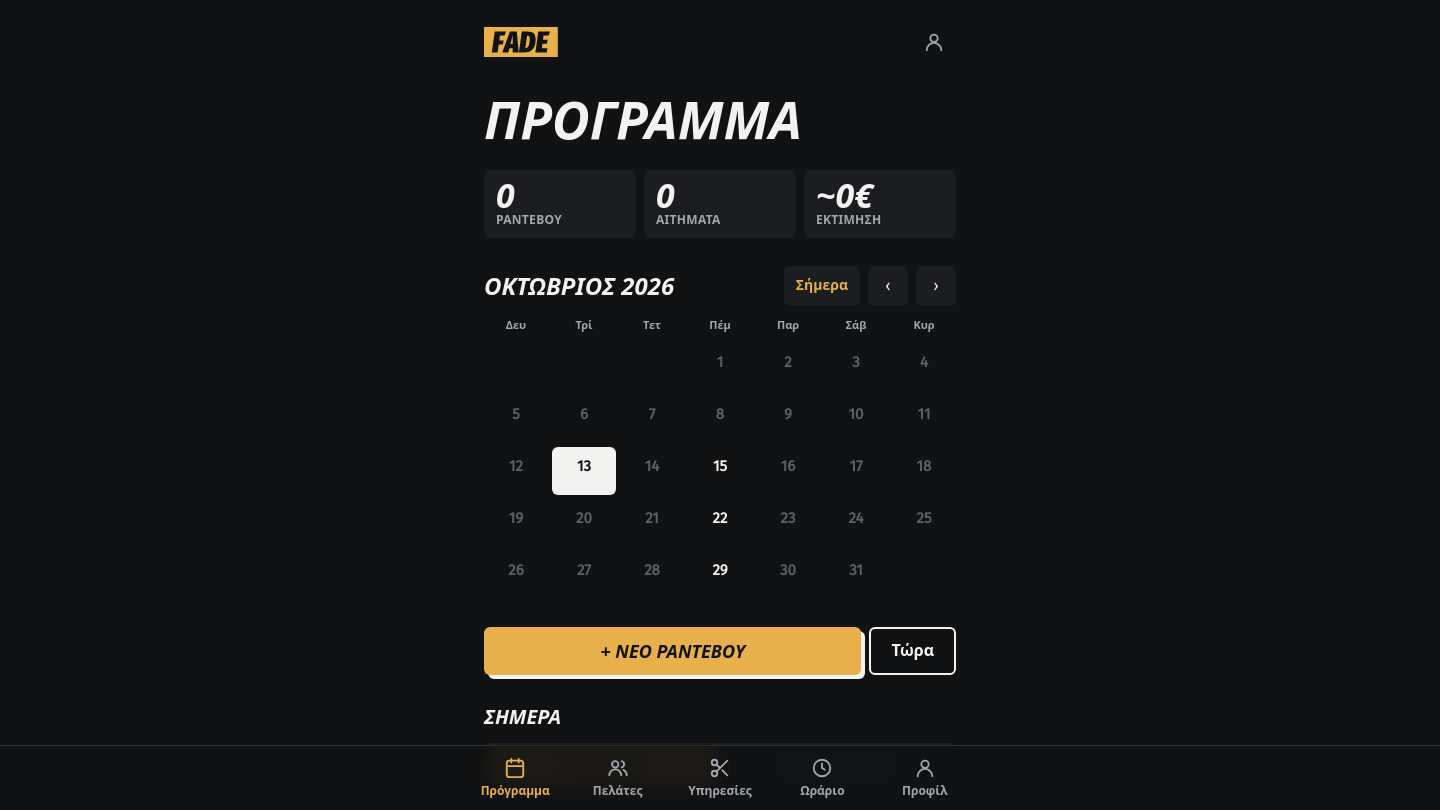
Test: opens the manual booking form at the free time that was tapped
Thursday 15 October, all free.
Click the button named "Πέμπτη 15 Οκτωβρίου" at (720, 471), box [688, 447, 752, 495]
(page scrolled)
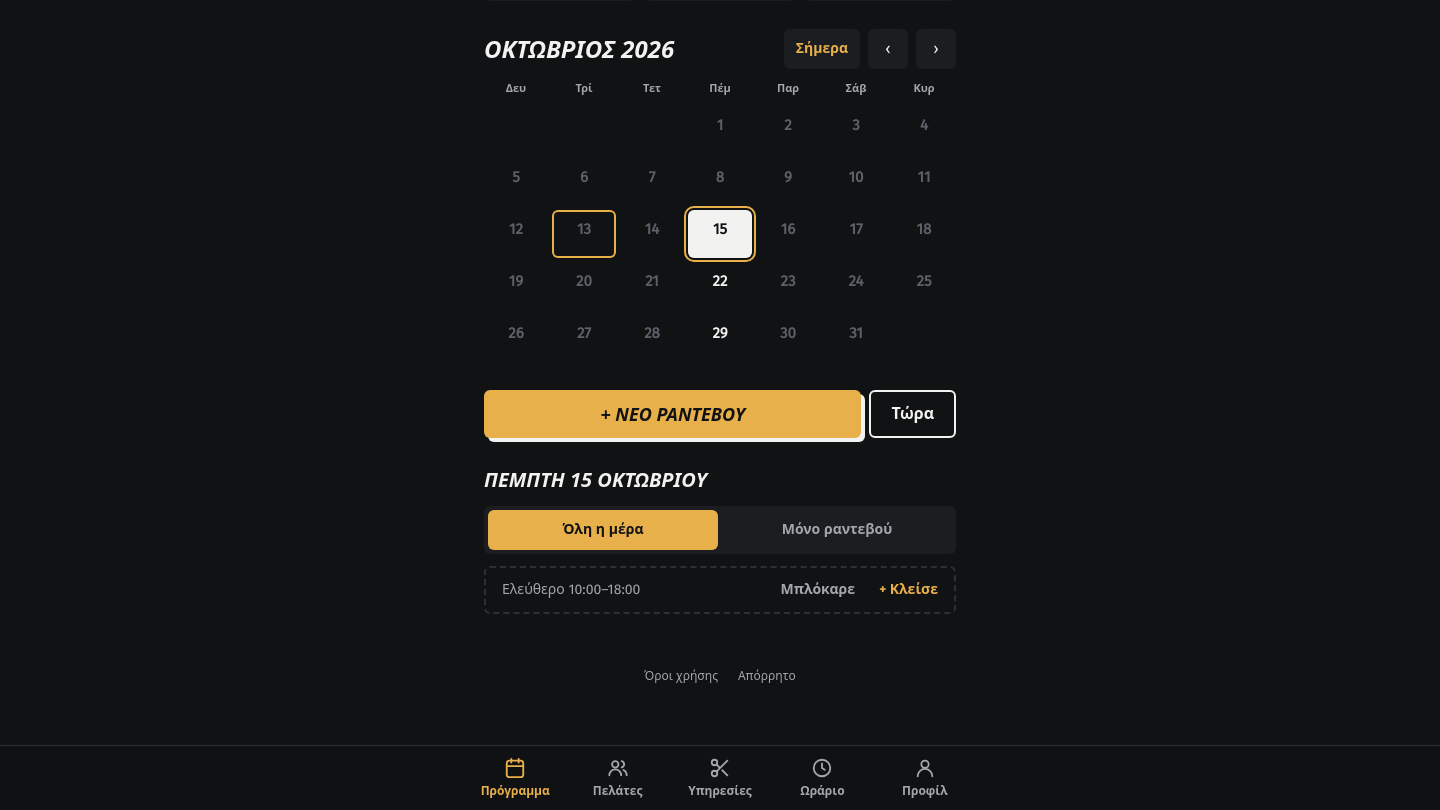
Click the button "+ Κλείσε" at (908, 590), box [871, 568, 946, 612]
(page scrolled)
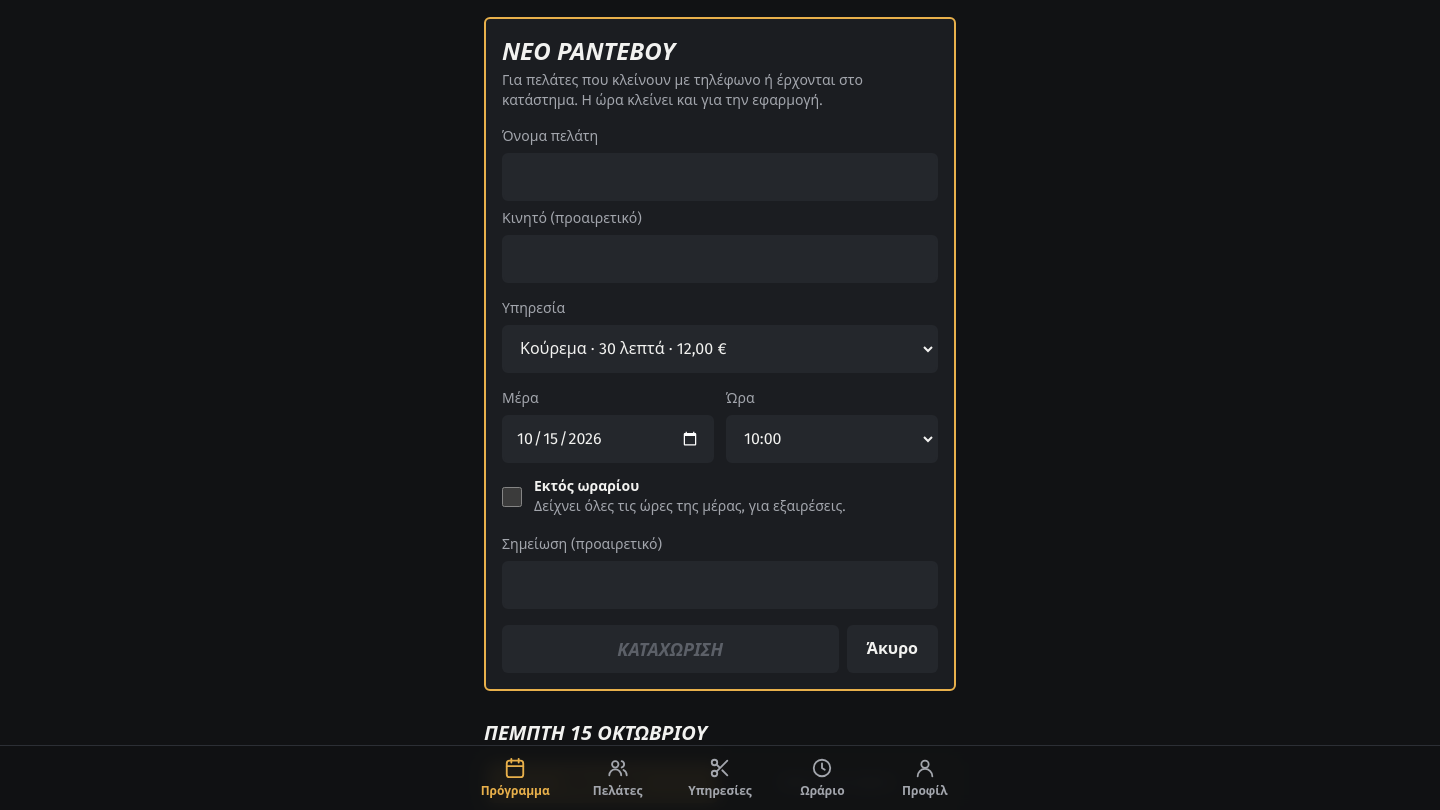
Check: the date field labelled "Μέρα" holds "2026-10-15", box [502, 415, 714, 463]
Check: the dropdown labelled "Ώρα" shows "10:00", box [726, 415, 938, 463]
